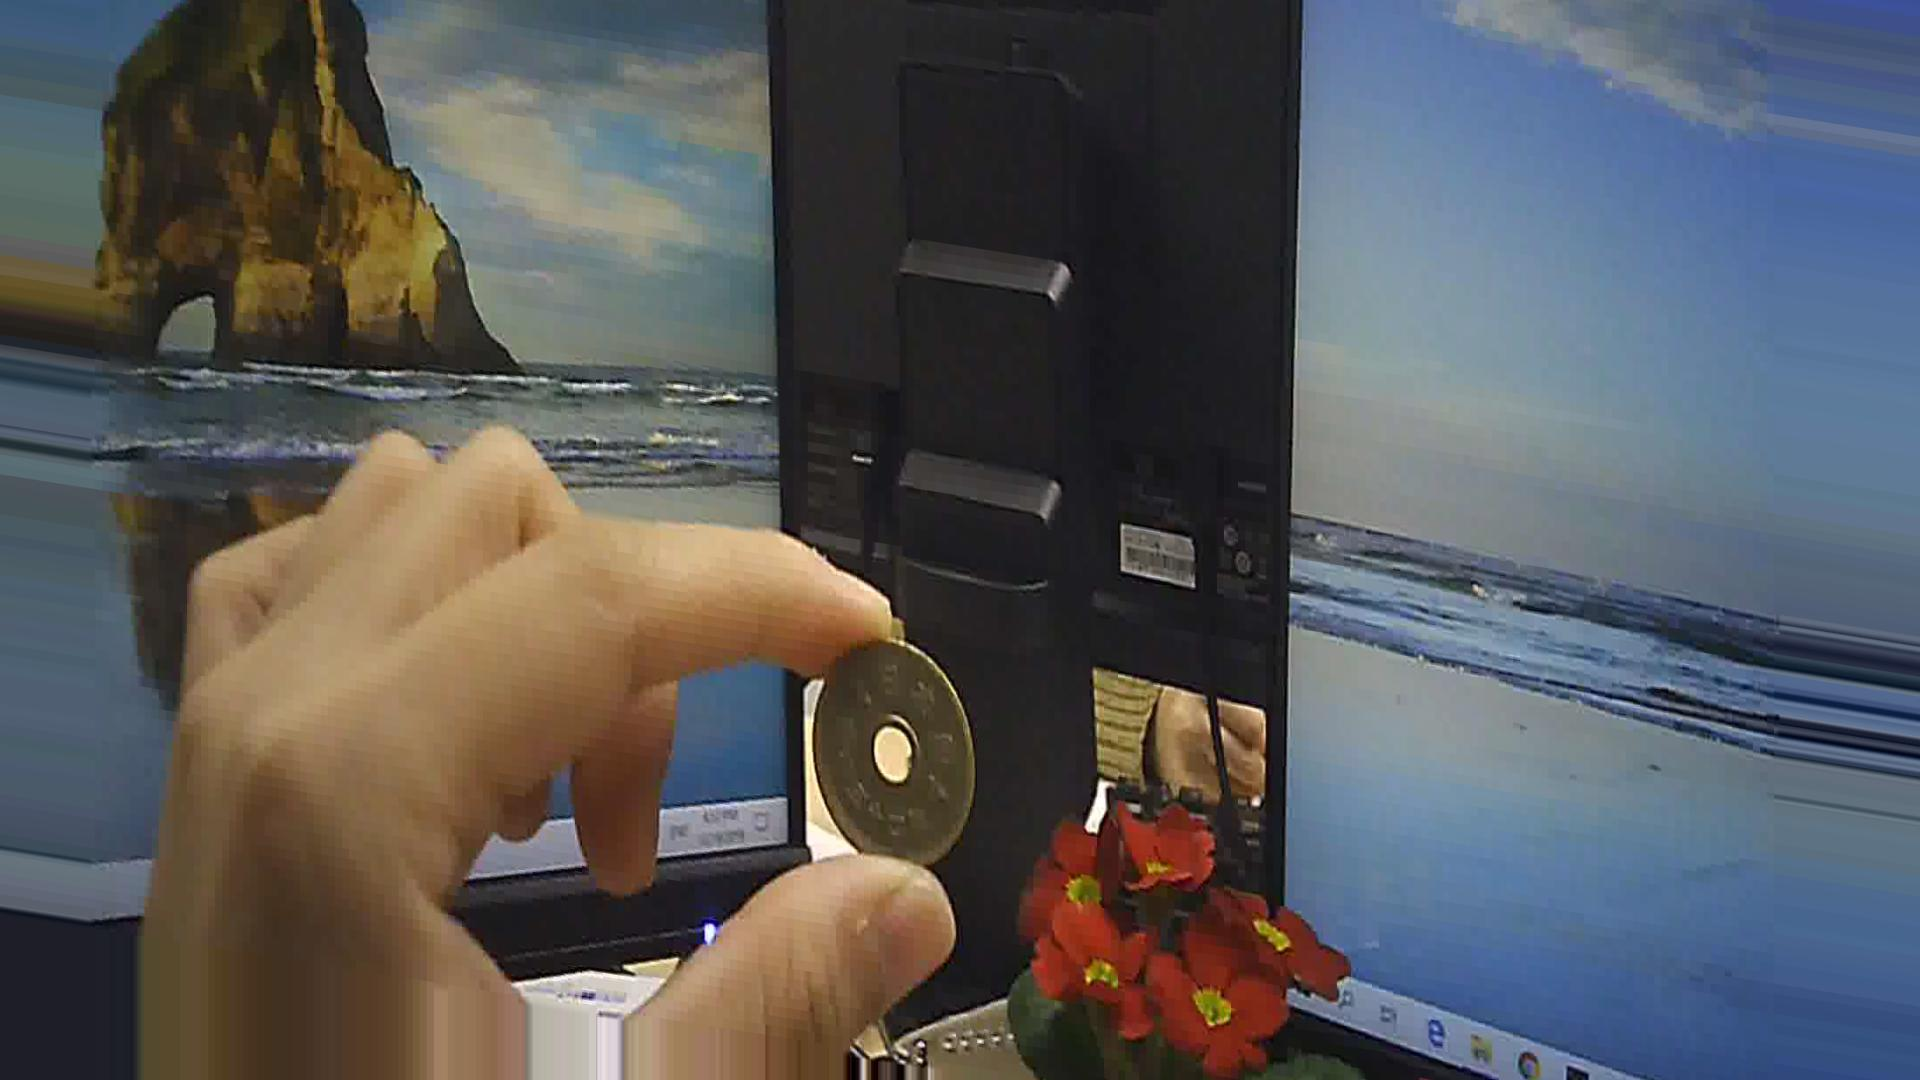5 Yen: (808, 644, 977, 873)
